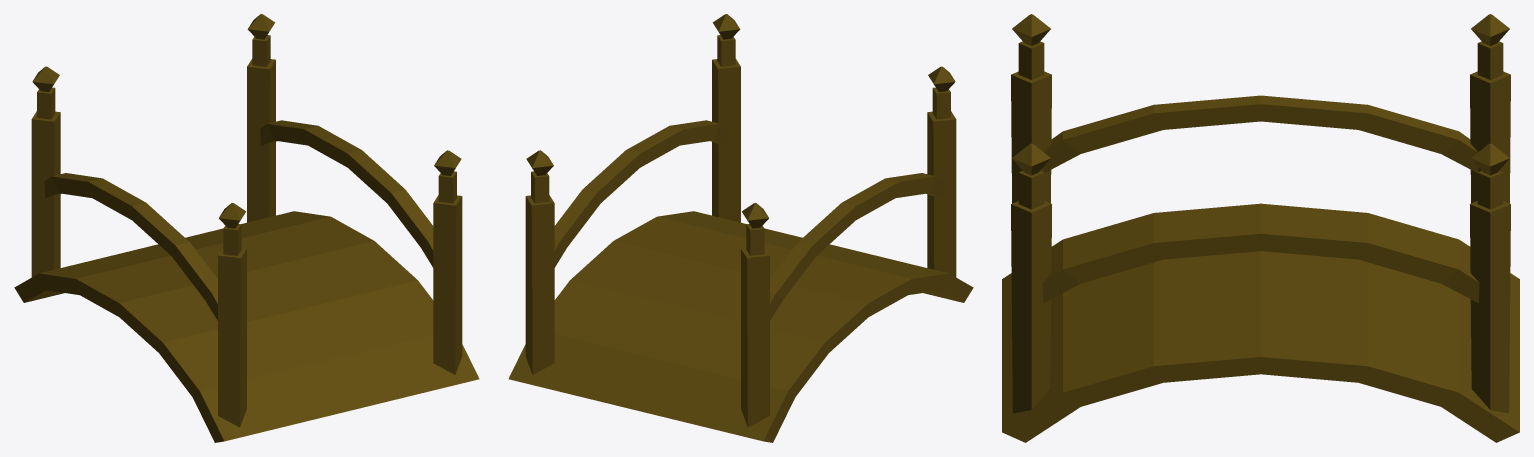
The model's file is Bridge.glb.
3 views of the same model, side by side, from view 1: azimuth 30°, elevation 25°; view 2: azimuth 150°, elevation 25°; view 3: azimuth 270°, elevation 25° (orthographic). The views are drawn at different scales.
Visible parts, largest first — view 1: Bridge1; view 2: Bridge1; view 3: Bridge1.
Part boxes in pixels (x1,y1,x2,y2): Bridge1: (14, 14, 479, 442); Bridge1: (508, 14, 973, 442); Bridge1: (1002, 14, 1519, 442).
Bounding box in the file's own units: 3.1 × 2.71 × 4.43.
